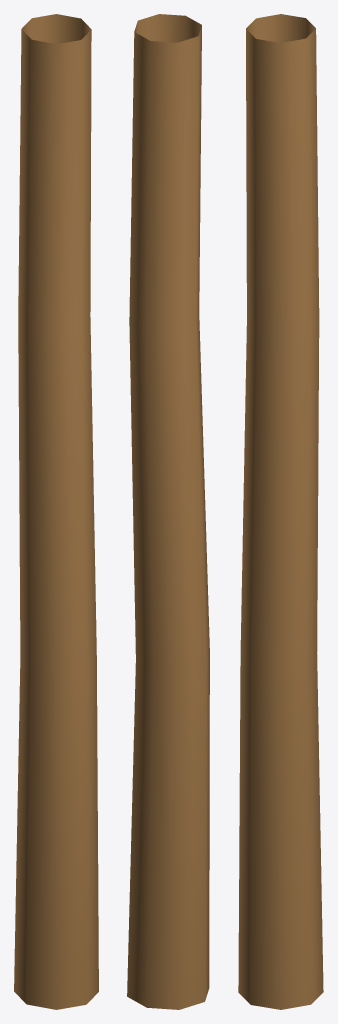
Rendered from EDV2_SignPost.fbx.
The picture shows the model from 3 angles, left to right: view 1: azimuth 90°, elevation 25°; view 2: azimuth 150°, elevation 25°; view 3: azimuth 270°, elevation 25°; orthographic projection.
Parts seen in each view (by area): view 1: Post; view 2: Post; view 3: Post.
Part boxes in pixels (bbox=[...]): Post: bbox=[14, 14, 98, 1009]; Post: bbox=[127, 14, 209, 1009]; Post: bbox=[238, 14, 323, 1009].
Size of the model in its own units: 0.08 by 1 by 0.08.
